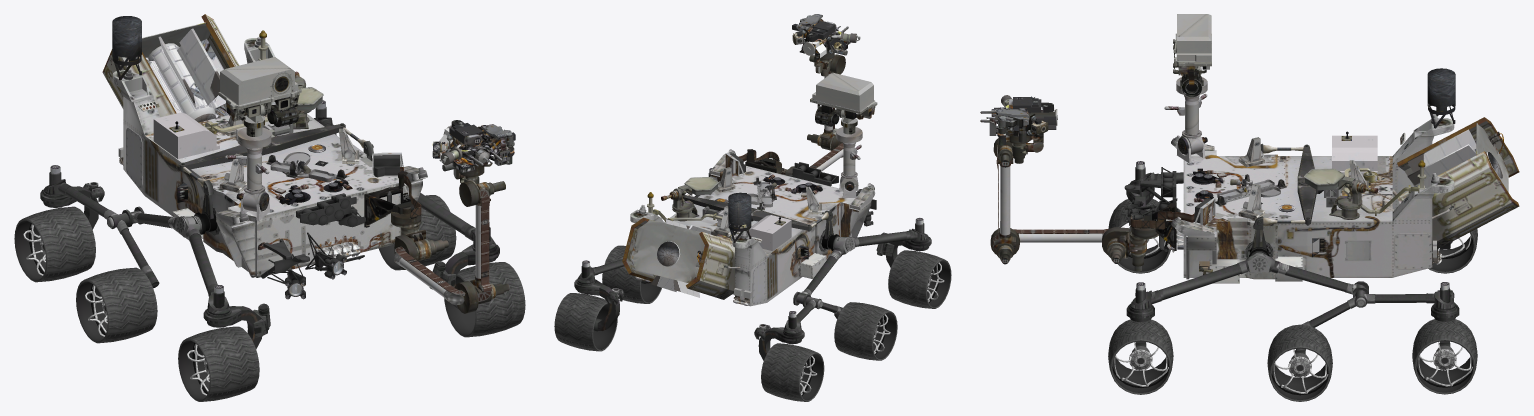
Rendered from 火星车.fbx.
3 views of the same model, side by side, from view 1: azimuth 30°, elevation 25°; view 2: azimuth 150°, elevation 25°; view 3: azimuth 270°, elevation 25° (orthographic). The views are drawn at different scales.
Visible parts, largest first — view 1: node_id044; view 2: node_id044; view 3: node_id044.
Boxes of the visible parts, left/top/right/bottom form: node_id044: left=14, top=14, right=525, bottom=401; node_id044: left=554, top=14, right=951, bottom=401; node_id044: left=980, top=14, right=1519, bottom=401.
Bounding box in the file's own units: 91.39 × 72.81 × 132.
